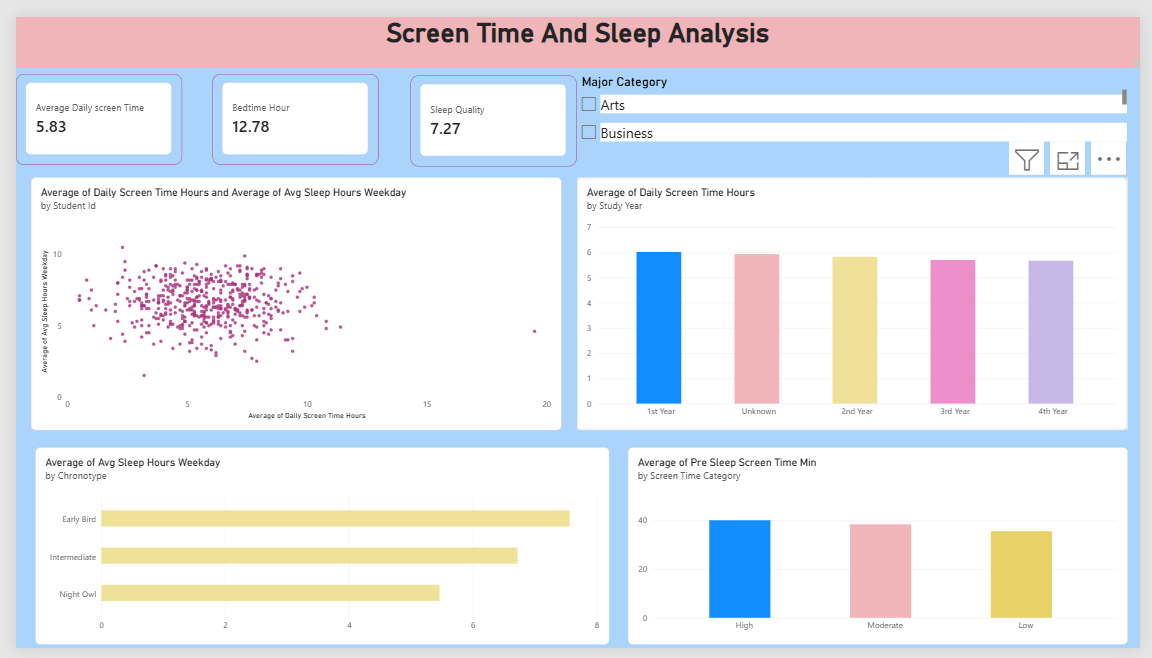

What the dashboard file says about the page in this screenshot:
{"tool":"powerbi","page":{"name":"Screen Time and Sleep Analysis","canvas":[1920,1080],"ordinal":1},"visuals":[{"type":"cardVisual","fields":{"Data":["Student Table.Average Daily screen Time"]},"box":[0,97.8,283.9,155.1],"z":0},{"type":"cardVisual","fields":{"Data":["Student Table.Bedtime Hour"]},"box":[336.4,97.8,283.9,155.1],"z":1000},{"type":"cardVisual","fields":{"Data":["Student Table.Sleep Quality"]},"box":[675.2,100.2,283.9,155.1],"z":2000},{"type":"textbox","box":[33,355.5,284,155],"z":3000},{"type":"textbox","box":[33,573.5,284,155],"z":4000},{"type":"scatterChart","fields":{"Category":["Student Table.Student Id"],"X":["Avg(Student Table.Daily Screen Time Hours)"],"Y":["Avg(Student Table.Avg Sleep Hours Weekday)"]},"box":[26.2,274.4,906.6,431.9],"z":5000},{"type":"columnChart","fields":{"Category":["Student Table.Study Year"],"Y":["Avg(Student Table.Daily Screen Time Hours)"]},"box":[959.1,274.4,940.1,431.9],"z":6000},{"type":"barChart","fields":{"Category":["Student Table.Chronotype"],"Y":["Avg(Student Table.Avg Sleep Hours Weekday)"]},"box":[33.4,734.9,980.6,336.4],"z":7000},{"type":"columnChart","fields":{"Category":["Student Table.Screen Time Category"],"Y":["Avg(Student Table.Pre Sleep Screen Time Min)"]},"box":[1045,734.9,854.2,336.4],"z":8000},{"type":"slicer","fields":{"Values":["Student Table.Major Category"]},"box":[959.1,97.8,940.1,119.3],"z":9000},{"type":"textbox","title":"Screen Time And Sleep Analysis","box":[0,0,1920.7,86],"z":10000}]}

Visuals, with their boxes in screenshot pixels (x1, y1, x2, y2), scaled from the page's 1920x1080 canvas onto the 1152x658 screenshot:
cardVisual - Student Table.Average Daily screen Time: box(0, 60, 170, 154)
cardVisual - Student Table.Bedtime Hour: box(202, 60, 372, 154)
cardVisual - Student Table.Sleep Quality: box(405, 61, 575, 156)
textbox: box(20, 217, 190, 311)
textbox: box(20, 349, 190, 444)
scatterChart - Student Table.Student Id x Avg(Student Table.Daily Screen Time Hours): box(16, 167, 560, 430)
columnChart - Student Table.Study Year x Avg(Student Table.Daily Screen Time Hours): box(575, 167, 1140, 430)
barChart - Student Table.Chronotype x Avg(Student Table.Avg Sleep Hours Weekday): box(20, 448, 608, 653)
columnChart - Student Table.Screen Time Category x Avg(Student Table.Pre Sleep Screen Time Min): box(627, 448, 1140, 653)
slicer - Student Table.Major Category: box(575, 60, 1140, 132)
"Screen Time And Sleep Analysis" textbox: box(0, 0, 1151, 52)
